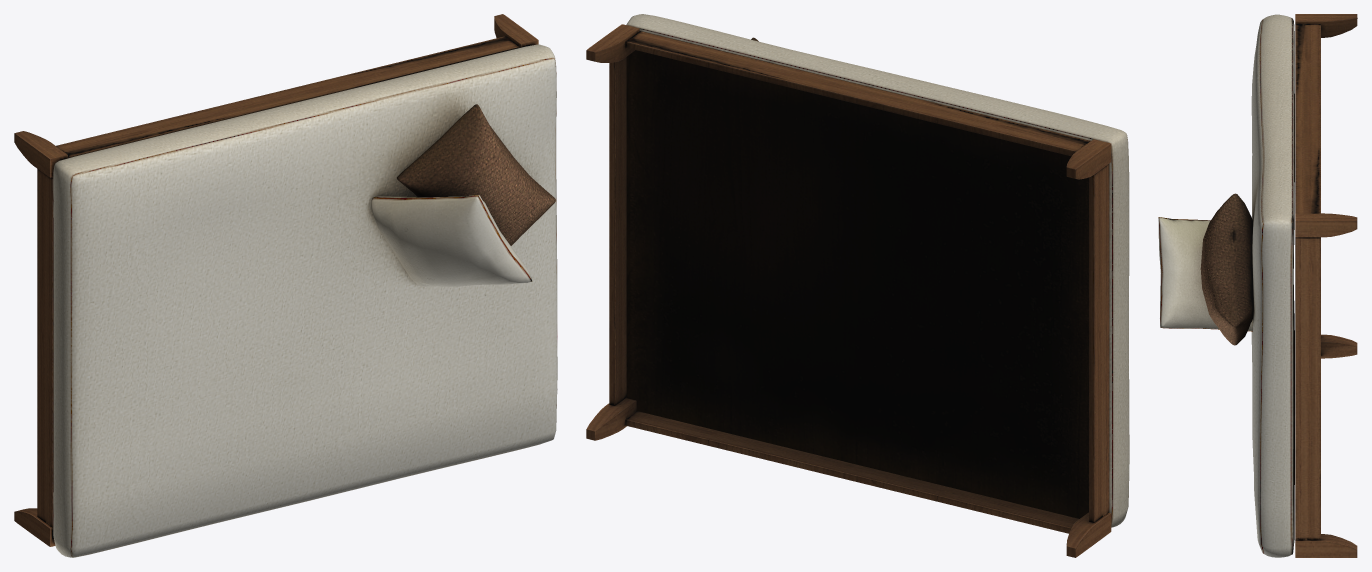
The model's file is HSM0016.obj.
3 views of the same model, side by side, from view 1: azimuth 30°, elevation 25°; view 2: azimuth 150°, elevation 25°; view 3: azimuth 270°, elevation 25° (orthographic). The views are drawn at different scales.
Parts seen in each view (by area): view 1: Day_bed_tan__Day_bed_tan_; view 2: Day_bed_tan__Day_bed_tan_; view 3: Day_bed_tan__Day_bed_tan_.
Boxes of the visible parts, x1,y1,x2,y2 form: Day_bed_tan__Day_bed_tan_: (14,14,557,557); Day_bed_tan__Day_bed_tan_: (586,14,1129,557); Day_bed_tan__Day_bed_tan_: (1158,14,1357,557).
Bounding box in the file's own units: 203 × 154 × 81.37.
